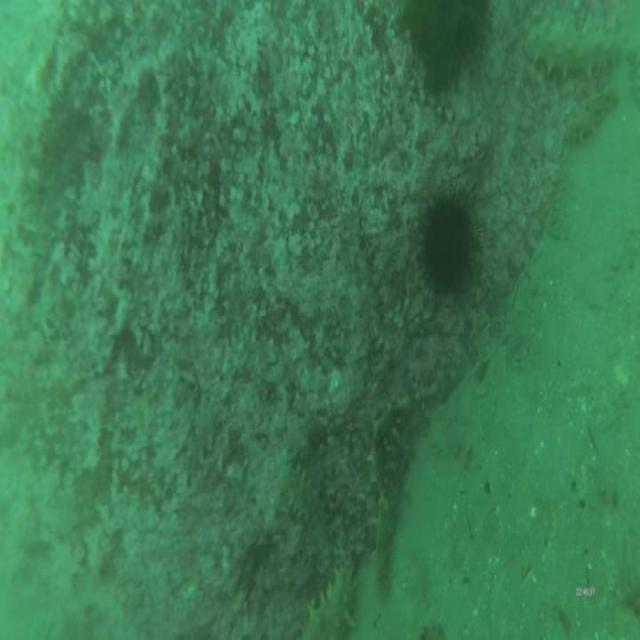echinus: (407, 183, 485, 316), (398, 0, 494, 93)
holothurian: (369, 408, 408, 608), (272, 449, 335, 564), (521, 16, 624, 84), (292, 556, 354, 640), (562, 87, 620, 147)
